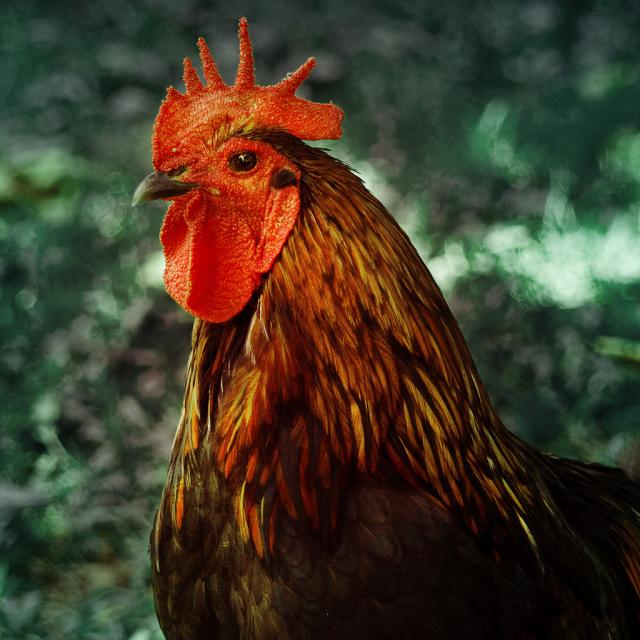Chicken: (130, 17, 640, 640)
